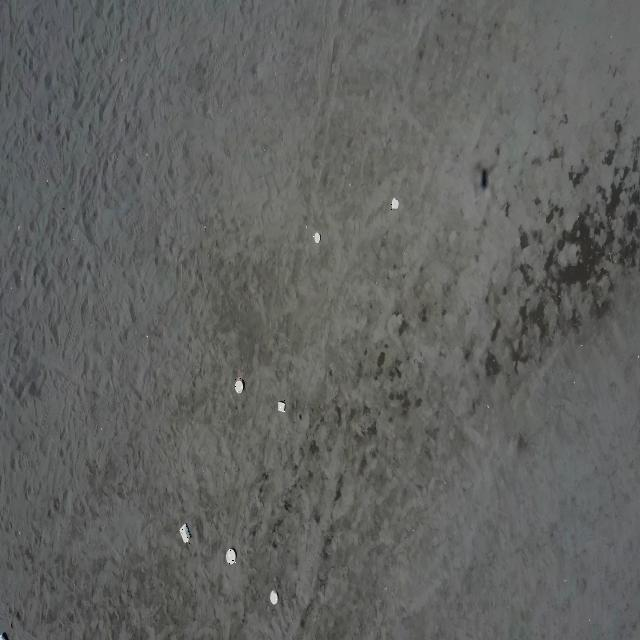take-away-containers: (179, 524, 191, 544), (226, 546, 237, 564), (234, 377, 244, 394), (270, 590, 278, 606), (277, 399, 286, 413), (391, 198, 399, 210), (313, 232, 321, 244)
